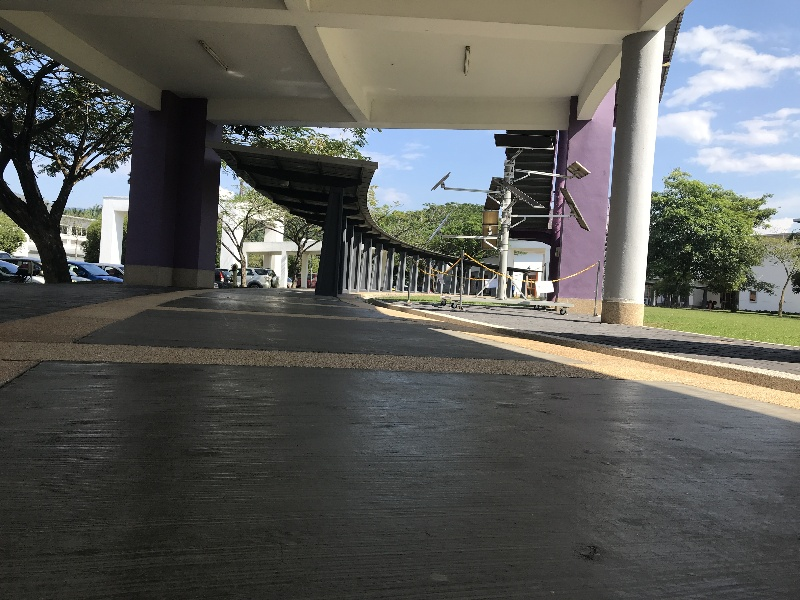Block D corridor: (5, 6, 789, 590)
pillar: (114, 83, 222, 293), (615, 31, 649, 333), (568, 89, 603, 322), (314, 188, 353, 295)
